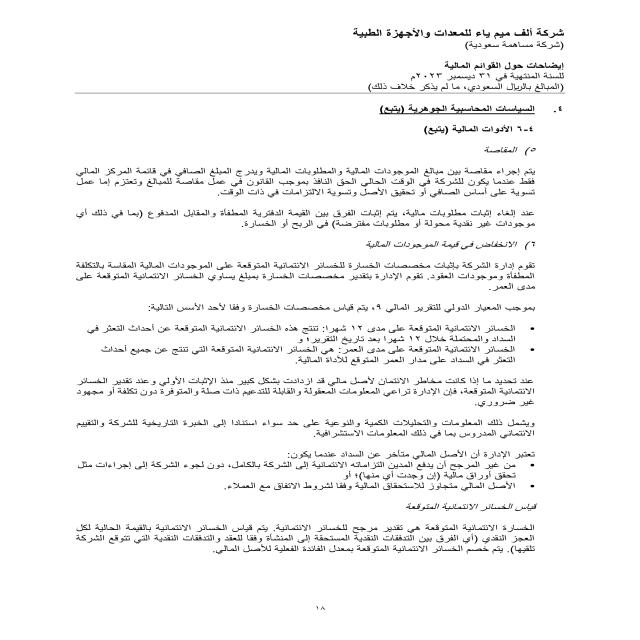notes: (433, 59, 573, 70)
text: (50, 100, 578, 574)
